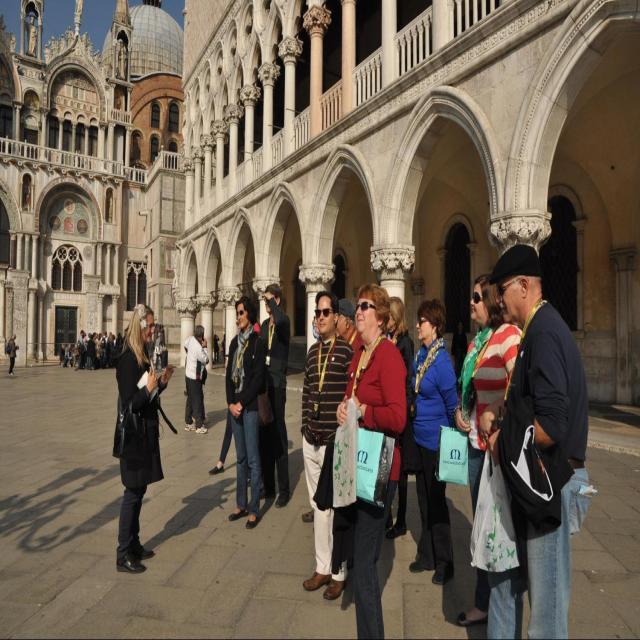body: (482, 240, 597, 639), (335, 281, 410, 639), (454, 271, 528, 629), (110, 302, 178, 575), (300, 290, 355, 601), (406, 298, 461, 585), (1, 2, 132, 117), (223, 294, 277, 530), (253, 282, 291, 512), (381, 295, 416, 541), (207, 310, 242, 477), (182, 324, 210, 435), (183, 328, 211, 424), (64, 326, 124, 355), (336, 297, 359, 348), (302, 308, 321, 341), (7, 333, 19, 376), (153, 332, 166, 371), (103, 191, 115, 227), (105, 331, 116, 369), (22, 174, 32, 213), (76, 329, 85, 369), (152, 322, 167, 346), (99, 331, 109, 366), (299, 505, 314, 526), (86, 334, 94, 371), (92, 332, 100, 368), (59, 342, 69, 368), (213, 333, 220, 363), (76, 145, 83, 171), (220, 333, 226, 358), (68, 355, 78, 369)
